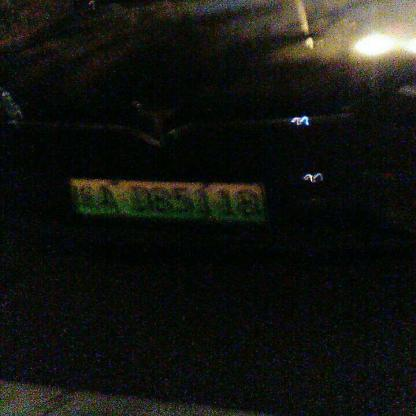lp: (70, 178, 266, 221)
